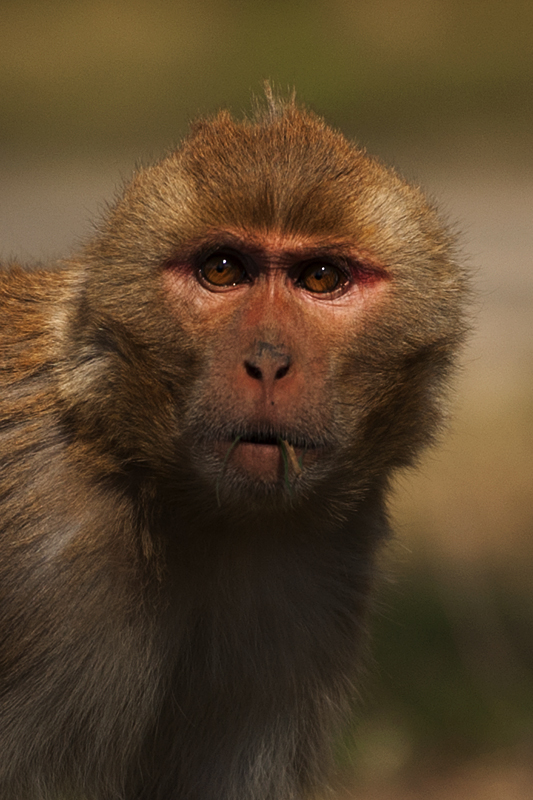monkey: (2, 74, 489, 800)
